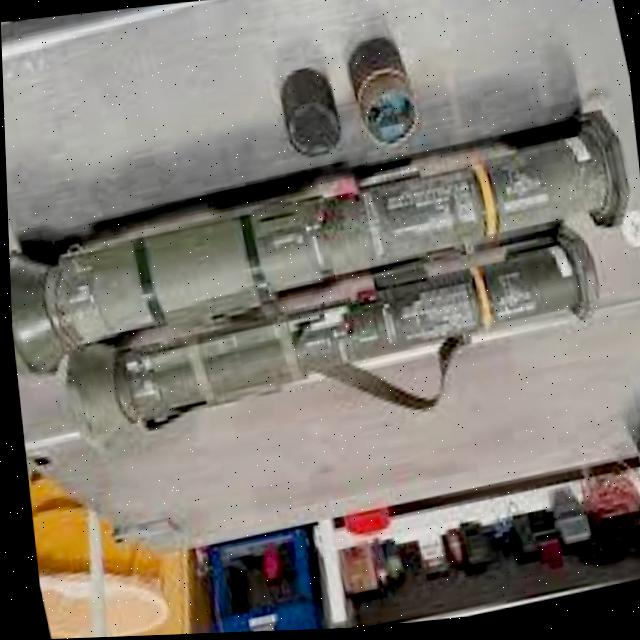rocket: (4, 123, 640, 458)
